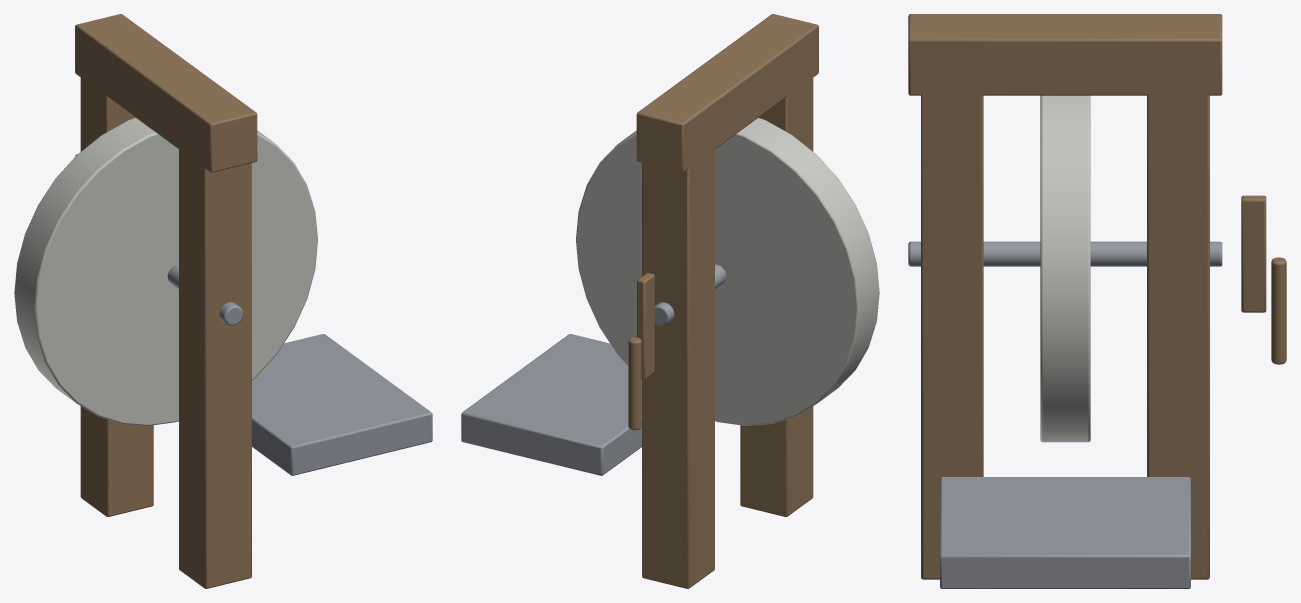
File: SM_ST_GRINDER.fbx
3 renders of one model, left to right at view 1: azimuth 30°, elevation 25°; view 2: azimuth 150°, elevation 25°; view 3: azimuth 270°, elevation 25°, orthographic. The views are drawn at different scales.
Visible parts, largest first — view 1: SM_ST_GRINDER; view 2: SM_ST_GRINDER; view 3: SM_ST_GRINDER.
Boxes of the visible parts, box(x1,y1,x2,y2) form: SM_ST_GRINDER: box(14, 14, 432, 588); SM_ST_GRINDER: box(461, 14, 879, 588); SM_ST_GRINDER: box(908, 14, 1286, 588).
Size of what is drawn, in the model's own units: 0.75 by 0.95 by 0.602.
